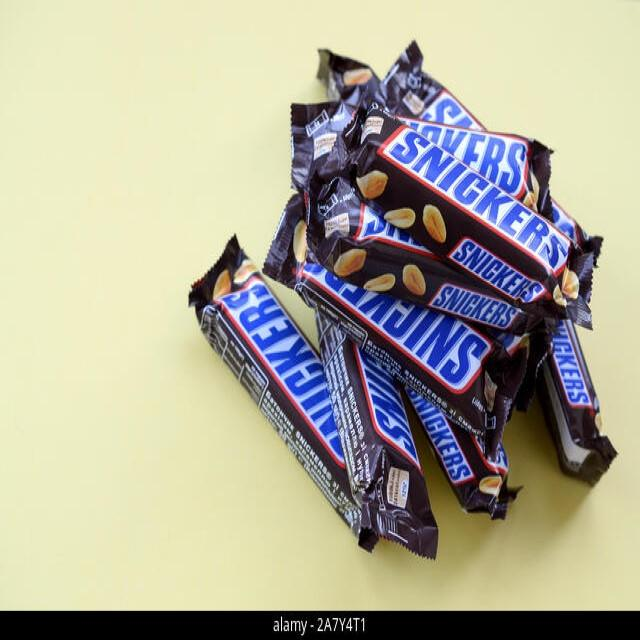snickers_chocolate: (218, 260, 512, 522), (315, 140, 588, 352), (274, 222, 538, 400), (348, 98, 567, 260)
